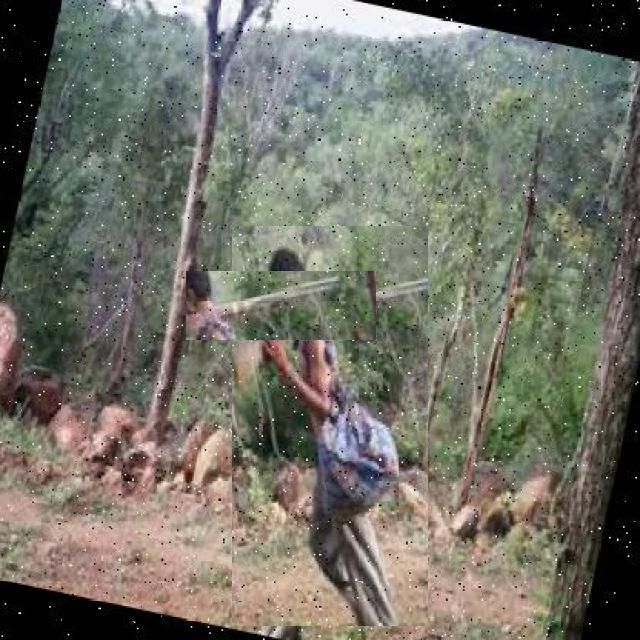poacher: (232, 226, 428, 626)
weapon: (186, 271, 376, 340)
